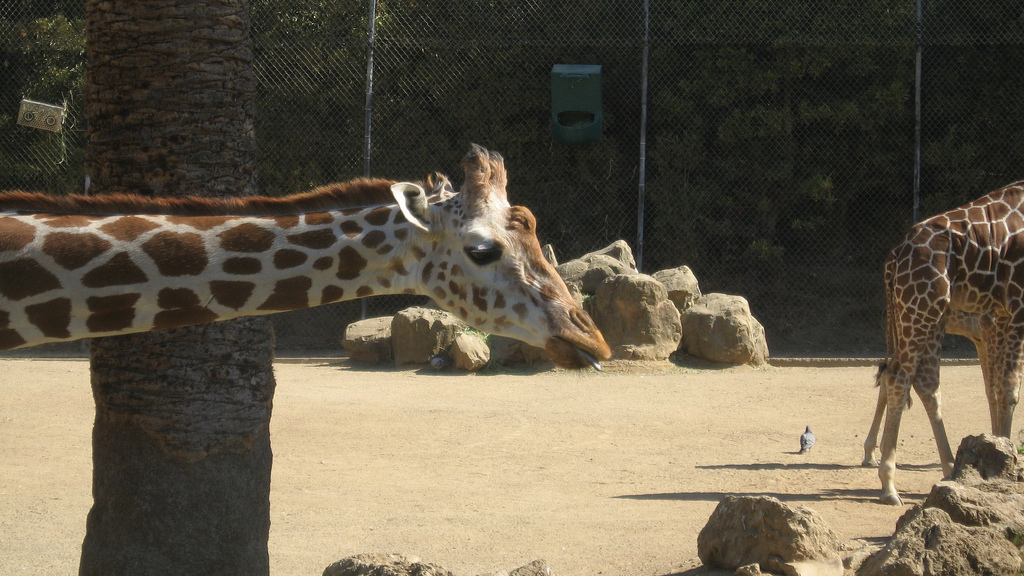giraffe: (22, 136, 635, 419)
